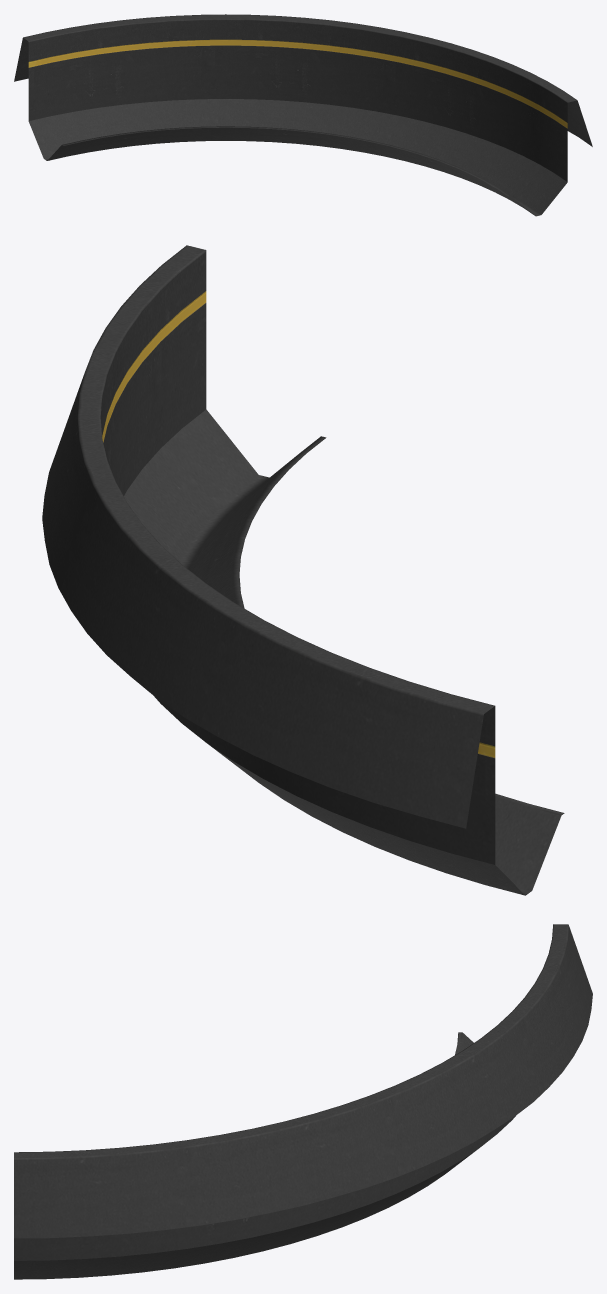
Rendered from ListeningRoomPlatform.fbx.
3 renders of one model, top to bottom at view 1: azimuth 30°, elevation 25°; view 2: azimuth 150°, elevation 25°; view 3: azimuth 270°, elevation 25°, orthographic. The views are drawn at different scales.
Parts seen in each view (by area): view 1: ListeningRoomPlatform001; view 2: ListeningRoomPlatform001; view 3: ListeningRoomPlatform001.
Part boxes in pixels (<box>): ListeningRoomPlatform001: <box>14,14,592,216</box>; ListeningRoomPlatform001: <box>42,245,564,895</box>; ListeningRoomPlatform001: <box>14,924,592,1279</box>.
Size of the model in its own units: 464 by 128 by 464.
